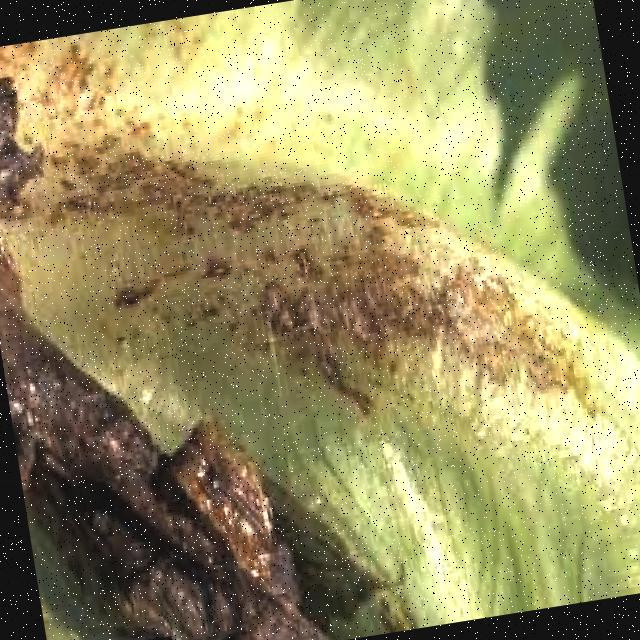Septoria_Blight: (130, 107, 463, 502)
